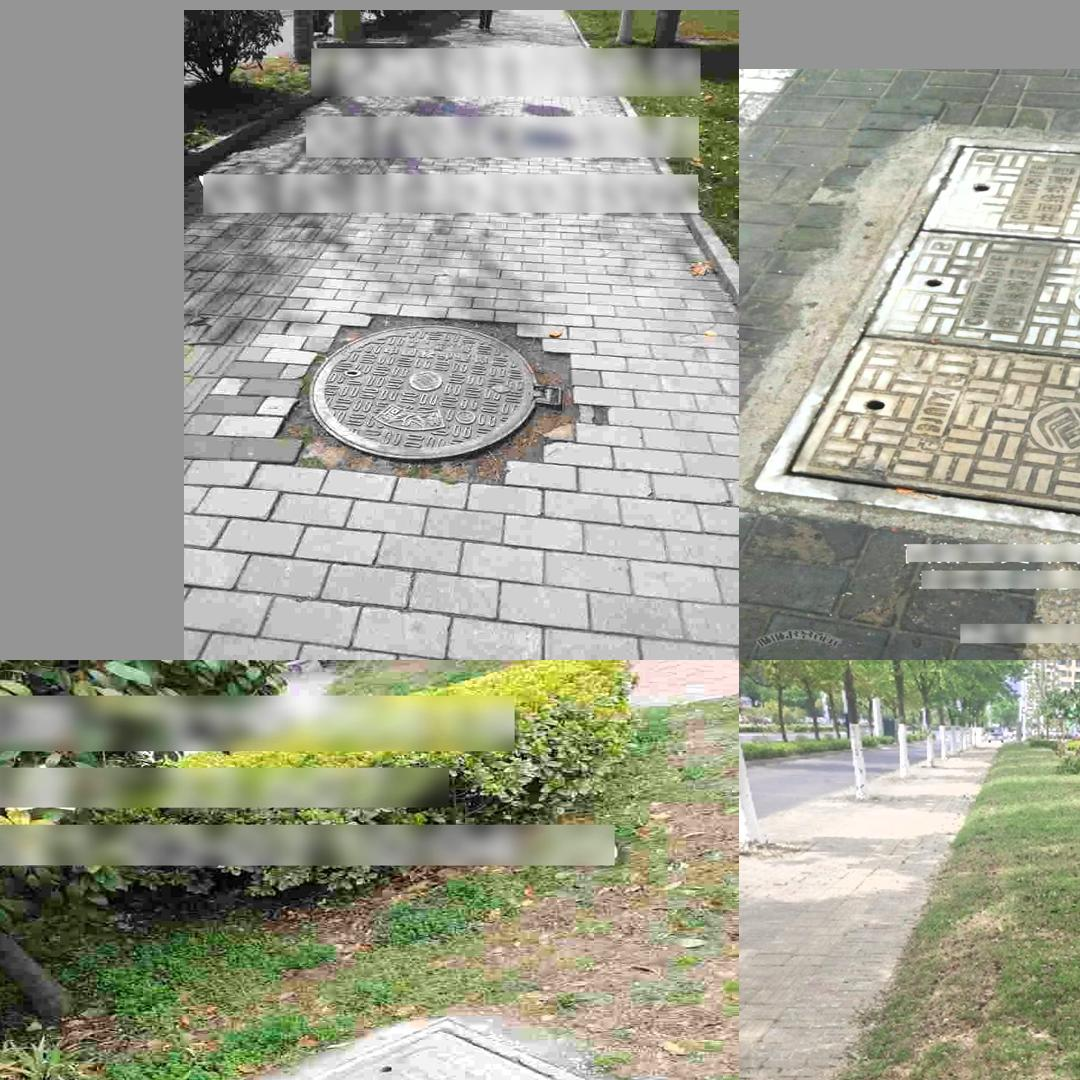good: (749, 136, 1080, 587), (308, 323, 563, 461), (113, 1019, 644, 1080)
